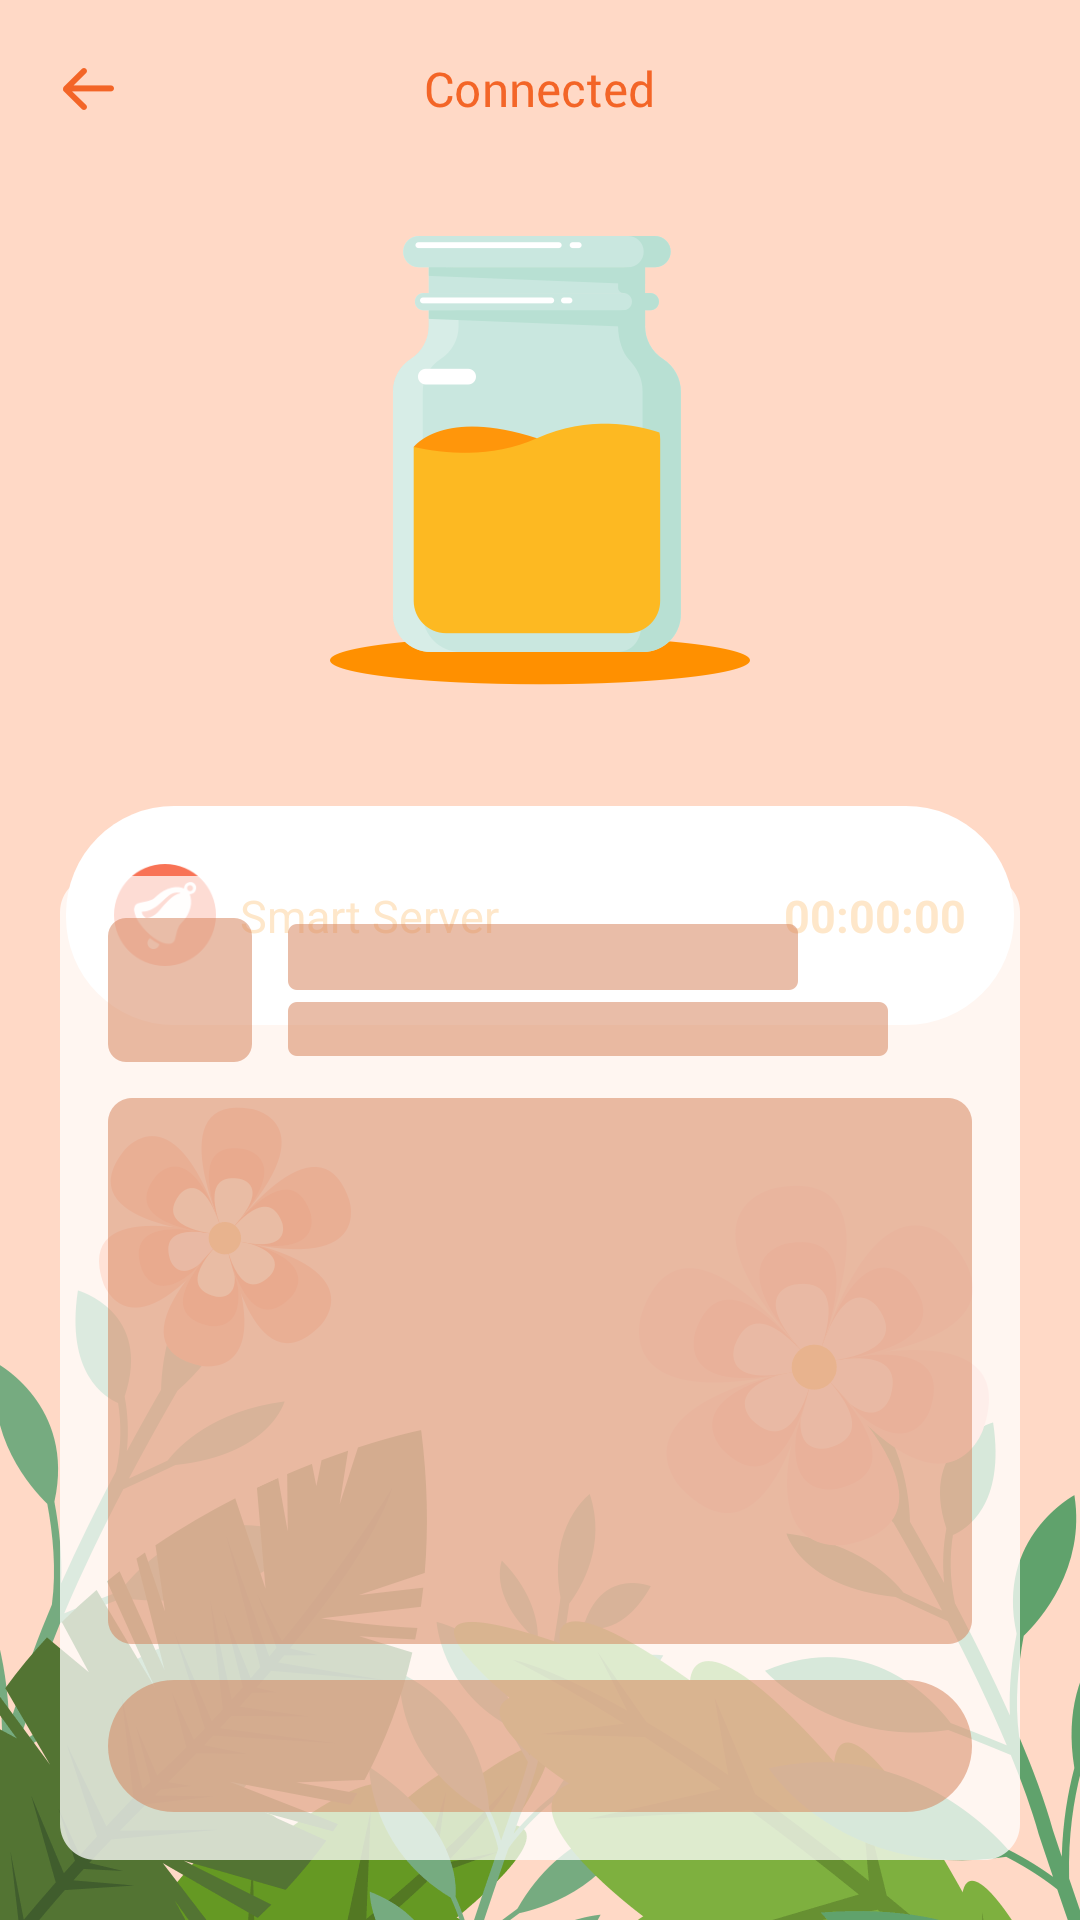

Named icons in this screenshot (1080px×1920px) and their centers, [x,y]:
back: [88,89]
